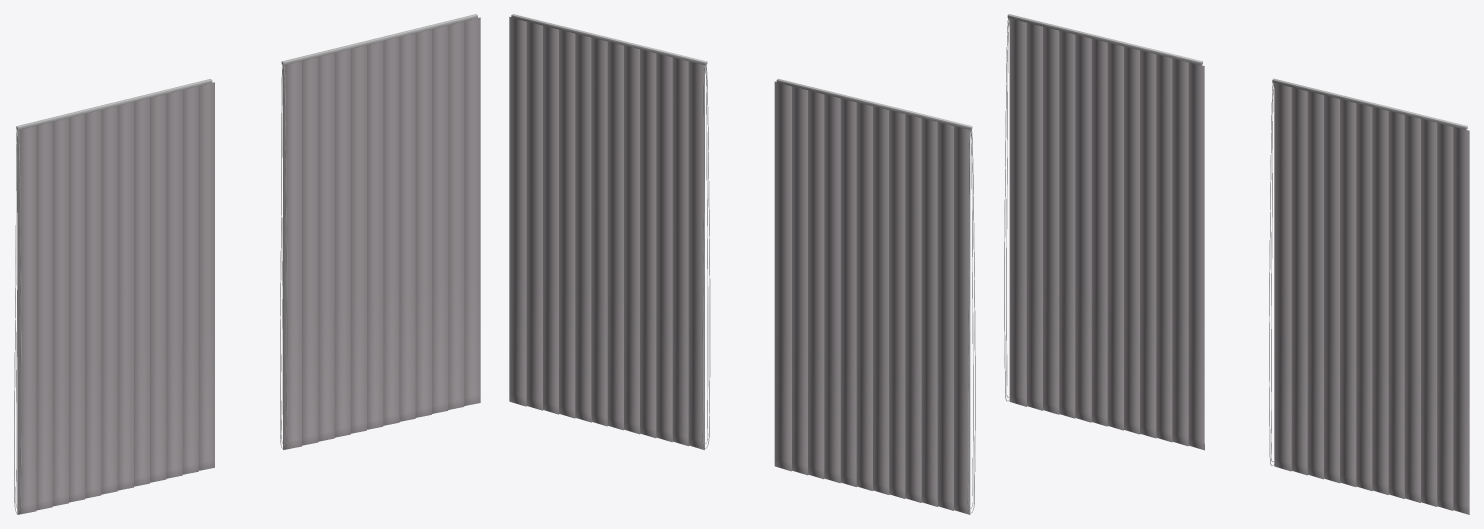
File: T111_Blinds.fbx
The picture shows the model from 3 angles, left to right: view 1: azimuth 30°, elevation 25°; view 2: azimuth 150°, elevation 25°; view 3: azimuth 330°, elevation 25°; orthographic projection.
Parts seen in each view (by area): view 1: Blinds_Blinds.001, Blinds_Blinds, Blinds_Holder.001, Blinds_Holder; view 2: Blinds_Blinds, Blinds_Blinds.001, Blinds_Holder.001, Blinds_Holder; view 3: Blinds_Blinds, Blinds_Blinds.001, Blinds_Holder, Blinds_Holder.001.
Part boxes in pixels (x1,y1,x2,y2): Blinds_Blinds.001: [283, 17, 480, 449]; Blinds_Blinds: [17, 82, 214, 514]; Blinds_Holder.001: [280, 14, 477, 449]; Blinds_Holder: [14, 79, 212, 514]; Blinds_Blinds: [774, 81, 970, 514]; Blinds_Blinds.001: [509, 16, 704, 449]; Blinds_Holder.001: [511, 14, 710, 448]; Blinds_Holder: [776, 78, 975, 513]; Blinds_Blinds: [1009, 18, 1204, 450]; Blinds_Blinds.001: [1274, 83, 1469, 514]; Blinds_Holder: [1004, 14, 1202, 401]; Blinds_Holder.001: [1269, 78, 1467, 465].
Size of the model in its own units: 3.33 by 2.67 by 0.0932.
